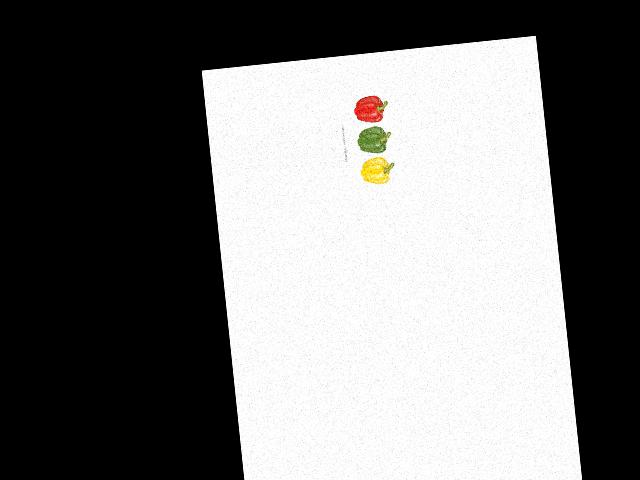bell_pepper: (356, 153, 395, 187)
